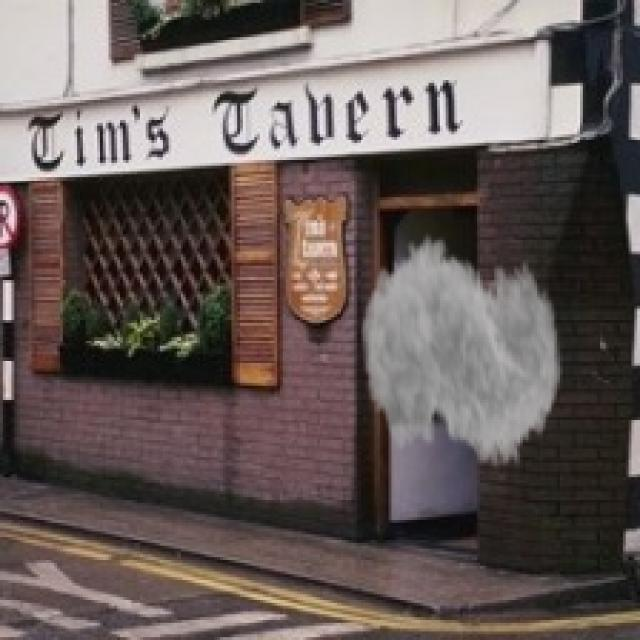Smoke: (360, 214, 563, 497)
